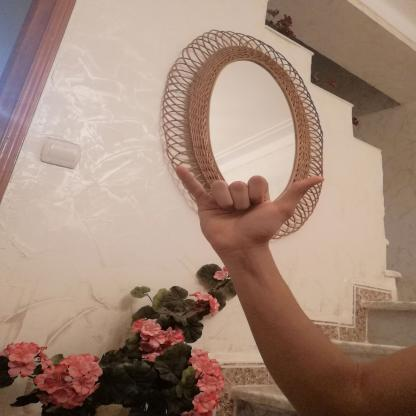YA: (163, 158, 334, 256)
